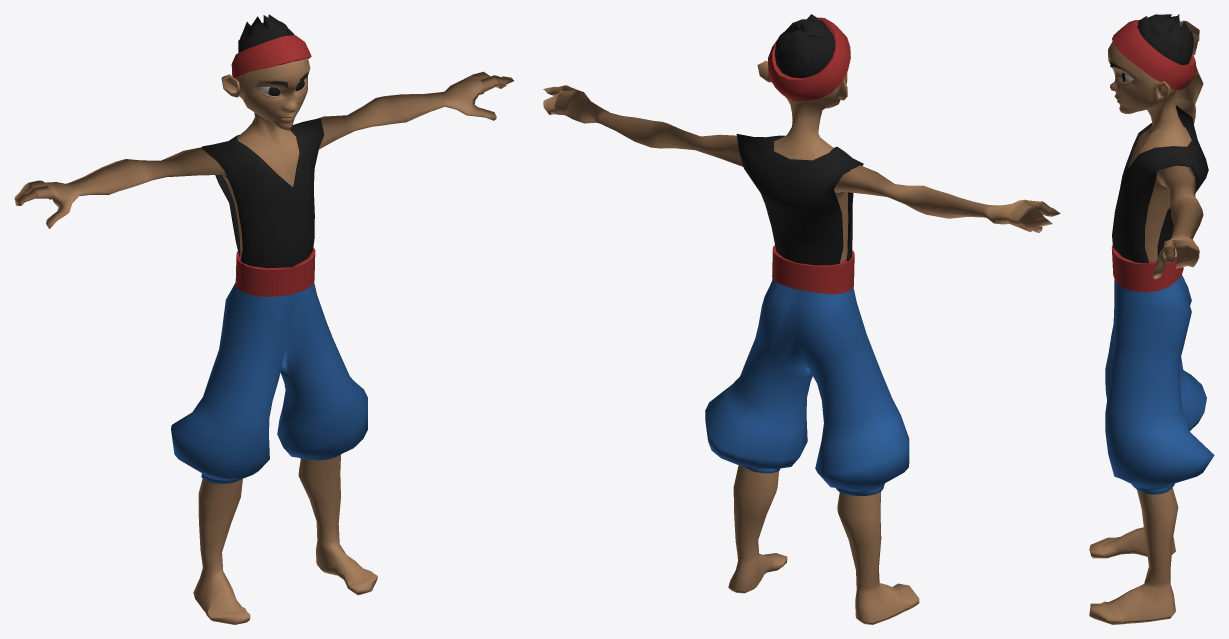
Rendered from LittleBoyStationary 1.fbx.
3 views of the same model, side by side, from view 1: azimuth 30°, elevation 25°; view 2: azimuth 150°, elevation 25°; view 3: azimuth 270°, elevation 25° (orthographic). The views are drawn at different scales.
Visible parts, largest first — view 1: Body, Pants, Shirt, Belt, HeadBand, Hair; view 2: Pants, Body, Shirt, Hair, HeadBand, Belt; view 3: Pants, Body, Shirt, HeadBand, Hair, Belt.
Boxes of the visible parts, x1,y1,x2,y2 form: Body: (14,58,513,624); Pants: (171,282,367,483); Shirt: (201,118,324,268); Belt: (235,247,315,296); HeadBand: (231,35,311,78); Hair: (238,14,294,52); Pants: (705,280,909,495); Body: (543,61,1060,624); Shirt: (736,134,863,265); Hair: (774,14,834,78); HeadBand: (768,17,850,101); Belt: (772,245,854,294); Pants: (1105,275,1214,494); Body: (1089,21,1203,624); Shirt: (1112,105,1208,263); HeadBand: (1112,20,1196,90); Hair: (1137,14,1193,64); Belt: (1111,245,1183,292).
Bounding box in the file's own units: 9.28 × 10.09 × 2.01.
